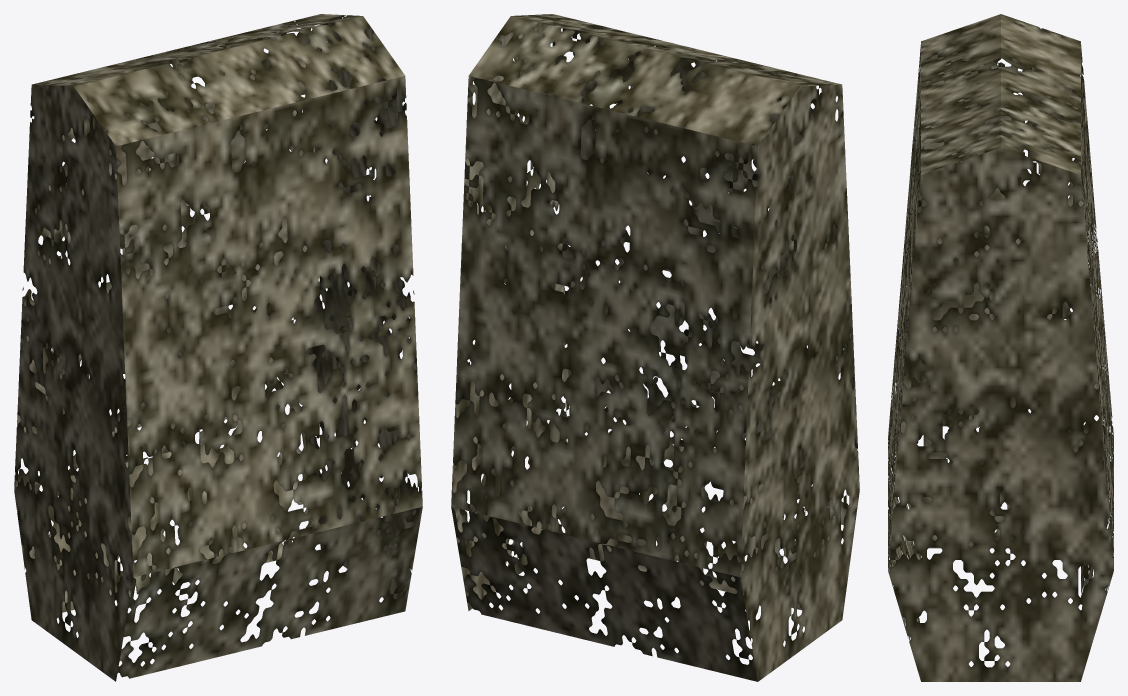
The model's file is bush_tall_half_dead.fbx.
The picture shows the model from 3 angles, left to right: view 1: azimuth 30°, elevation 25°; view 2: azimuth 150°, elevation 25°; view 3: azimuth 270°, elevation 25°; orthographic projection. The views are drawn at different scales.
Parts seen in each view (by area): view 1: bush_tall_half_dead; view 2: bush_tall_half_dead; view 3: bush_tall_half_dead.
Boxes of the visible parts, box(x1,y1,x2,y2) form: bush_tall_half_dead: box(14, 14, 422, 681); bush_tall_half_dead: box(451, 14, 859, 681); bush_tall_half_dead: box(888, 14, 1113, 681).
Size of the model in its own units: 101 by 188 by 71.91.
Materials: 1 (1 with a texture image).
